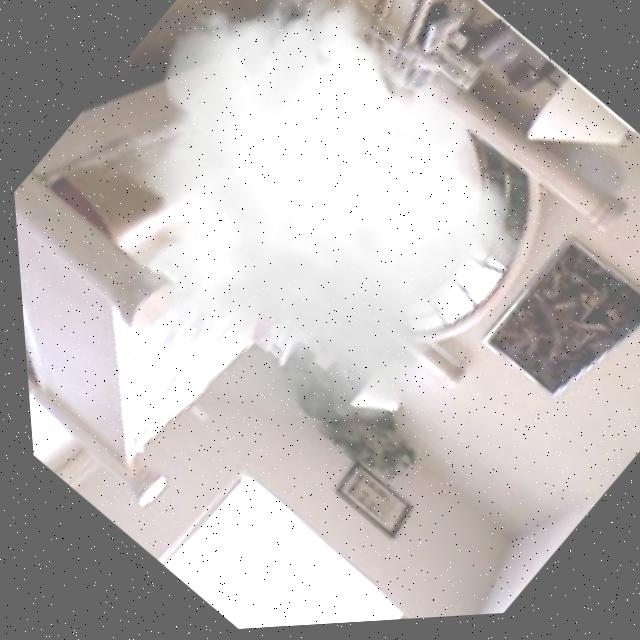Smoke: (12, 0, 605, 520)
